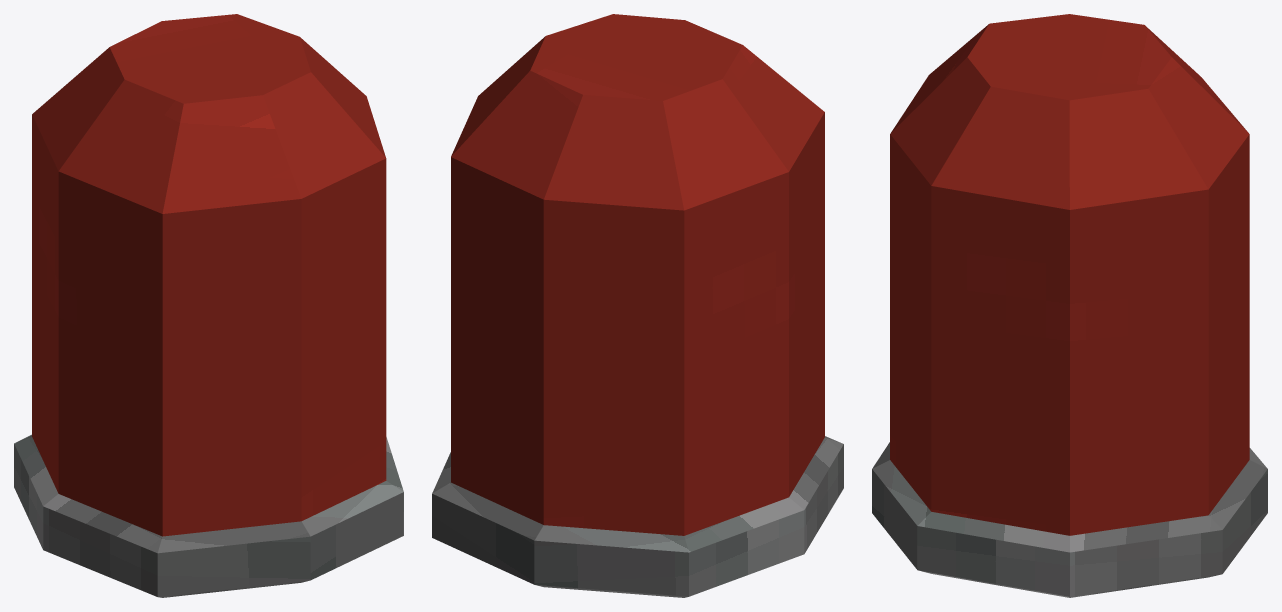
Rendered from redlight.glb.
The picture shows the model from 3 angles, left to right: view 1: azimuth 30°, elevation 25°; view 2: azimuth 150°, elevation 25°; view 3: azimuth 270°, elevation 25°; orthographic projection.
Visible parts, largest first — view 1: Cube.011; view 2: Cube.011; view 3: Cube.011.
Part boxes in pixels (x1=…): Cube.011: x1=14, y1=14, x2=403, y2=597; Cube.011: x1=432, y1=14, x2=843, y2=597; Cube.011: x1=872, y1=14, x2=1267, y2=597.
Bounding box in the file's own units: 0.3265 × 0.4229 × 0.3265.
Materials: 1 (1 with a texture image).
